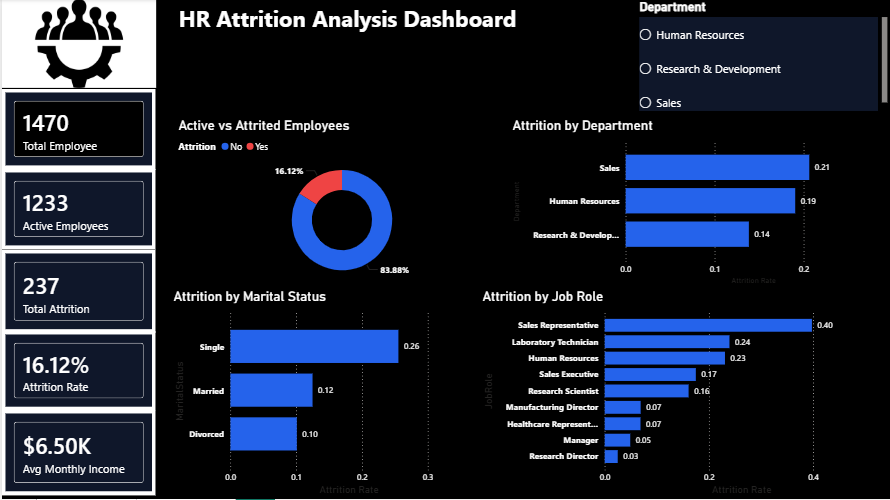

This screenshot's page, from the dashboard's own definition file:
{"tool":"powerbi","page":{"name":"Dashboard","canvas":[1280,720],"ordinal":0},"visuals":[{"type":"cardVisual","fields":{"Data":["hr_attrition_db hr_data.Total Employee"]},"box":[0,96.6,177.1,115.6],"z":0},{"type":"cardVisual","fields":{"Data":["hr_attrition_db hr_data.Total Attritied"]},"box":[0,341,177.1,120],"z":1},{"type":"cardVisual","fields":{"Data":["hr_attrition_db hr_data.Attrition Rate"]},"box":[0,461,177.1,103.9],"z":2},{"type":"cardVisual","fields":{"Data":["hr_attrition_db hr_data.Active Employees"]},"box":[0,225.4,177.1,115.6],"z":3},{"type":"cardVisual","fields":{"Data":["hr_attrition_db hr_data.Avg Monthly Income"]},"box":[0,564.9,197.6,122.9],"z":4},{"type":"donutChart","title":"Active vs Attrited Employees","fields":{"Category":["hr_attrition_db hr_data.Attrition"],"Y":["hr_attrition_db hr_data.Total Employee"]},"box":[247.3,150.7,449.3,254.6],"z":5},{"type":"clusteredBarChart","title":"Attrition by Department","fields":{"Category":["hr_attrition_db hr_data.Department"],"Y":["hr_attrition_db hr_data.Attrition Rate"]},"box":[729.7,153.7,550.2,247.3],"z":6},{"type":"clusteredBarChart","title":"Attrition by Job Role","fields":{"Y":["hr_attrition_db hr_data.Attrition Rate"],"Category":["hr_attrition_db hr_data.JobRole"]},"box":[690.7,415.6,589.8,304.4],"z":7},{"type":"clusteredBarChart","title":"Attrition by Marital Status","fields":{"Category":["hr_attrition_db hr_data.MaritalStatus"],"Y":["hr_attrition_db hr_data.Attrition Rate"]},"box":[235.6,411.2,442,304.4],"z":8},{"type":"listSlicer","fields":{"Values":["hr_attrition_db hr_data.Department"]},"box":[925.8,7.3,354.1,144.9],"z":9},{"type":"textbox","box":[0,7.3,538.5,79],"z":10}]}

Visuals, with their boxes in screenshot pixels (x1, y1, x2, y2), scaled from the page's 1280x720 canvas onto the 890x500 screenshot:
cardVisual - hr_attrition_db hr_data.Total Employee: (0, 67, 123, 147)
cardVisual - hr_attrition_db hr_data.Total Attritied: (0, 237, 123, 320)
cardVisual - hr_attrition_db hr_data.Attrition Rate: (0, 320, 123, 392)
cardVisual - hr_attrition_db hr_data.Active Employees: (0, 157, 123, 237)
cardVisual - hr_attrition_db hr_data.Avg Monthly Income: (0, 392, 137, 478)
"Active vs Attrited Employees" donutChart: (172, 105, 484, 281)
"Attrition by Department" clusteredBarChart: (507, 107, 889, 278)
"Attrition by Job Role" clusteredBarChart: (480, 289, 889, 499)
"Attrition by Marital Status" clusteredBarChart: (164, 286, 471, 497)
listSlicer - hr_attrition_db hr_data.Department: (644, 5, 889, 106)
textbox: (0, 5, 374, 60)
